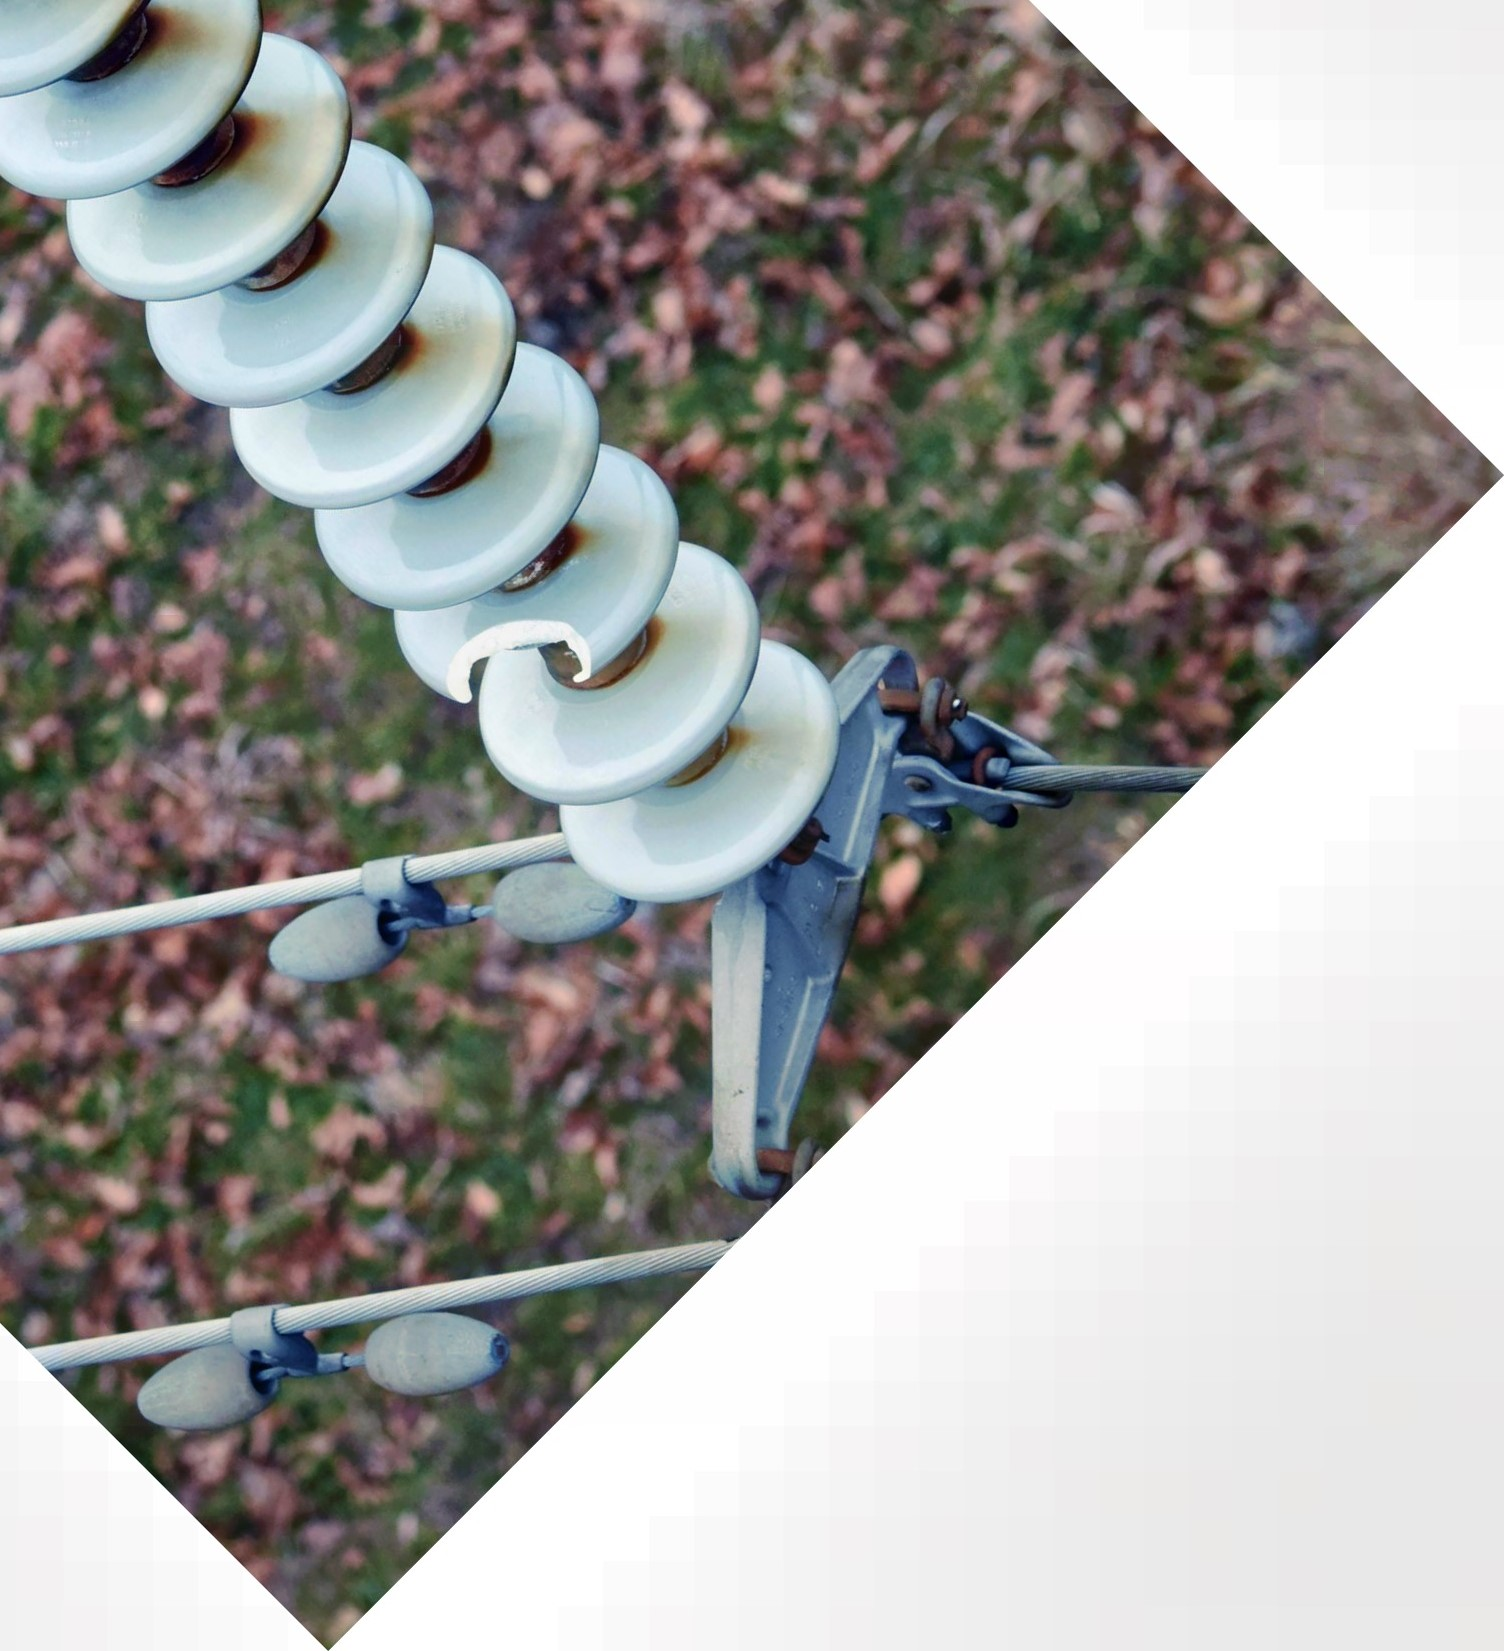insulator breakage: (372, 440, 684, 708)
